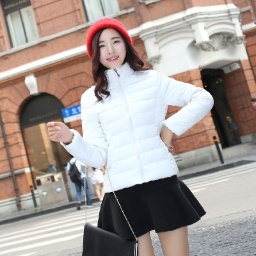face: (77, 19, 157, 96)
